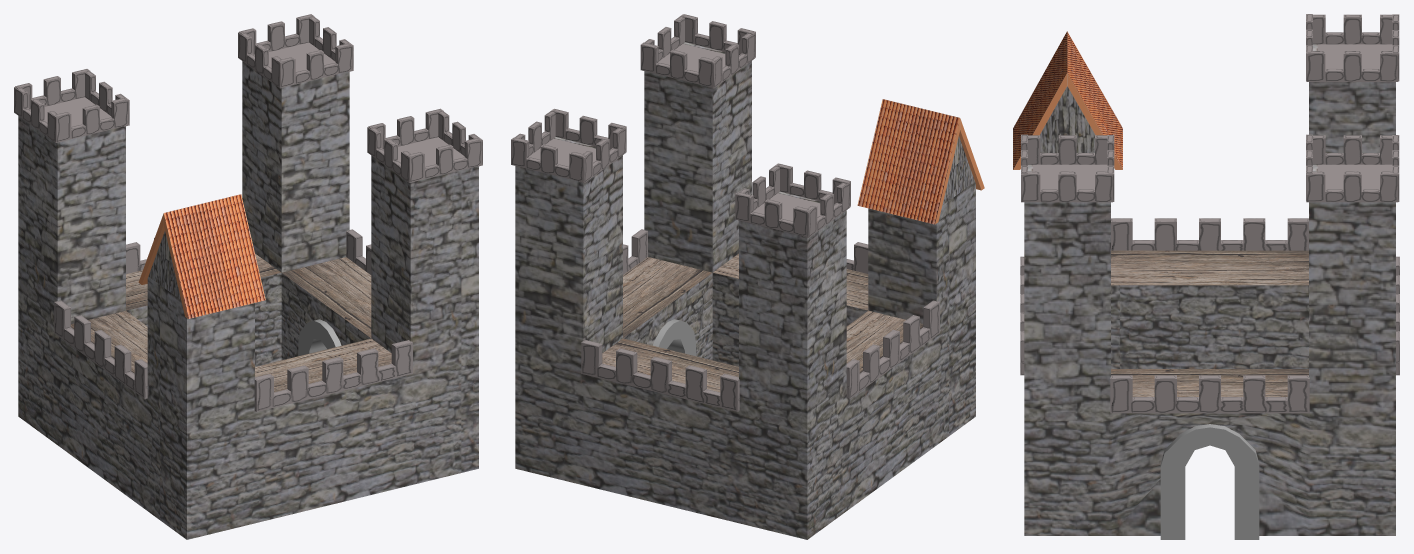
File: Castle.fbx
The picture shows the model from 3 angles, left to right: view 1: azimuth 30°, elevation 25°; view 2: azimuth 150°, elevation 25°; view 3: azimuth 270°, elevation 25°; orthographic projection. The views are drawn at different scales.
Visible parts, largest first — view 1: Castle, Roof, BattlementRight (×3), RimRight, BattlementLeft (×3), BattlementBack (×3), RimBack, BattlementFront (×3), Gate, RimFront; view 2: Castle, Roof, BattlementLeft (×3), RimLeft, BattlementRight (×3), BattlementBack (×3), RimBack, BattlementFront (×3), Gate, RimFront; view 3: Castle, BattlementFront (×3), Gate, RimFront, Roof, BattlementBack (×3), RimBack, RimRight, RimLeft.
Boxes of the visible parts, x1,y1,x2,y2 form: Castle: [18, 42, 478, 539]; Roof: [138, 194, 265, 318]; BattlementRight (×3): [53, 43, 481, 182]; RimRight: [254, 340, 412, 411]; BattlementLeft (×3): [15, 14, 443, 149]; BattlementBack (×3): [14, 32, 414, 182]; RimBack: [54, 300, 147, 399]; BattlementFront (×3): [85, 17, 482, 166]; Gate: [298, 319, 341, 356]; RimFront: [346, 229, 371, 274]; Castle: [515, 42, 975, 539]; Roof: [857, 99, 984, 224]; BattlementLeft (×3): [511, 42, 810, 236]; RimLeft: [581, 340, 739, 411]; BattlementRight (×3): [551, 14, 850, 206]; BattlementBack (×3): [579, 33, 850, 237]; RimBack: [846, 300, 939, 399]; BattlementFront (×3): [515, 14, 779, 210]; Gate: [653, 319, 695, 355]; RimFront: [623, 229, 647, 274]; Castle: [1024, 44, 1395, 535]; BattlementFront (×3): [1021, 51, 1398, 202]; Gate: [1160, 424, 1259, 539]; RimFront: [1110, 375, 1309, 413]; Roof: [1013, 31, 1122, 169]; BattlementBack (×3): [1028, 14, 1392, 164]; RimBack: [1111, 218, 1308, 250]; RimRight: [1020, 256, 1024, 375]; RimLeft: [1396, 256, 1399, 375].
Size of the model in its own units: 3.9 by 4.07 by 3.92.
